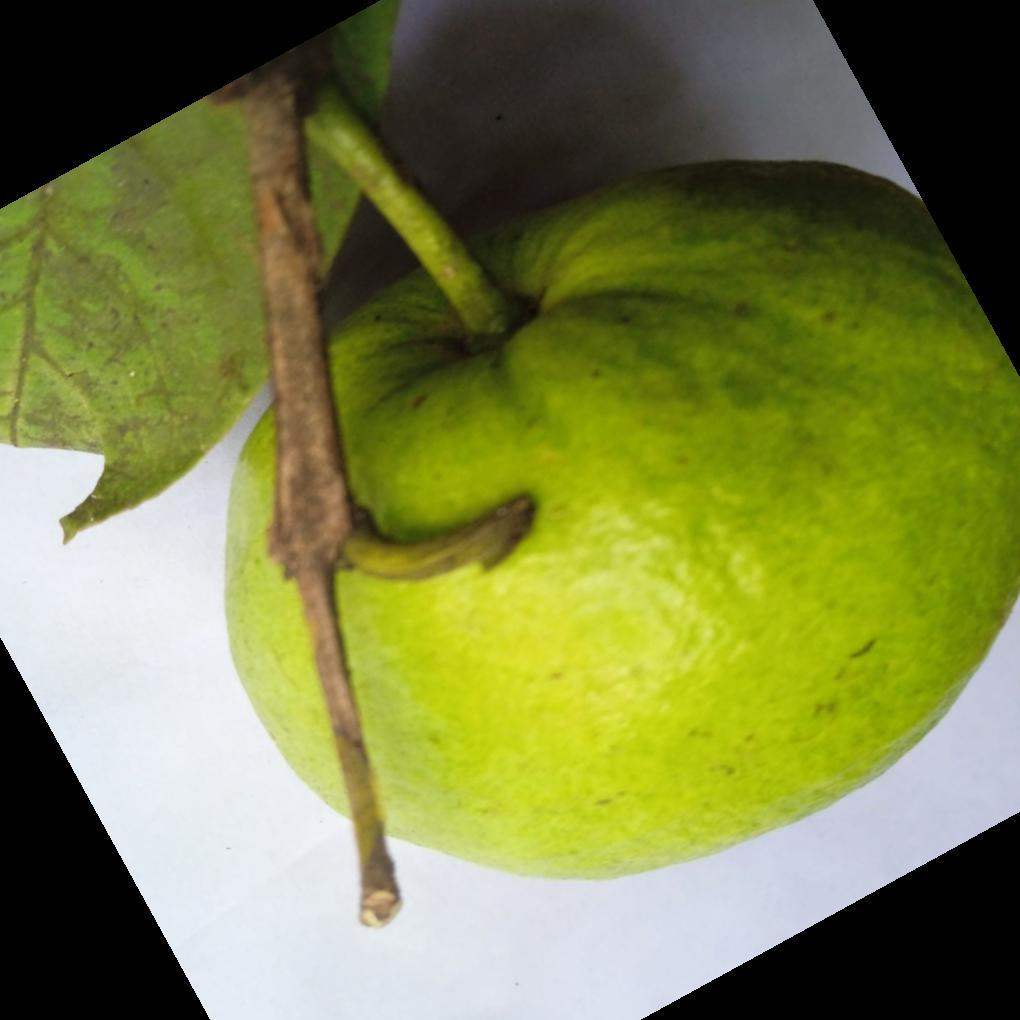FreshGuava: (0, 70, 1020, 930)
